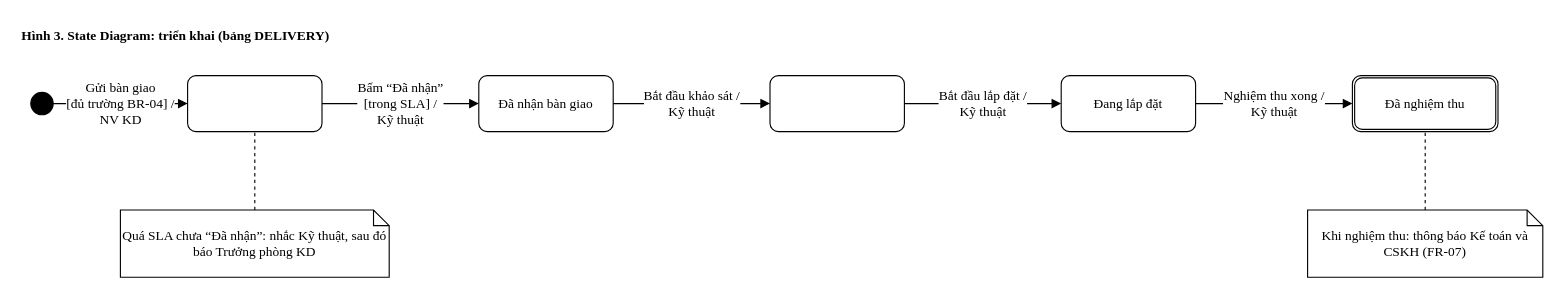
The diagram is 1562 pixels wide and 297 high, and some of its shapes have lost their labels. The box of each missing label's shape, as (x1, y1, x2, y2) in pixels:
Chờ nhận bàn giao: (186, 74, 322, 132)
Đang khảo sát: (769, 74, 904, 132)
